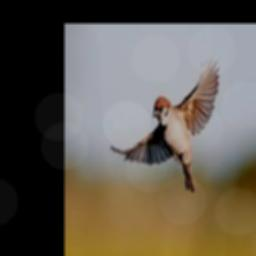Sparrow: (110, 55, 220, 192)
